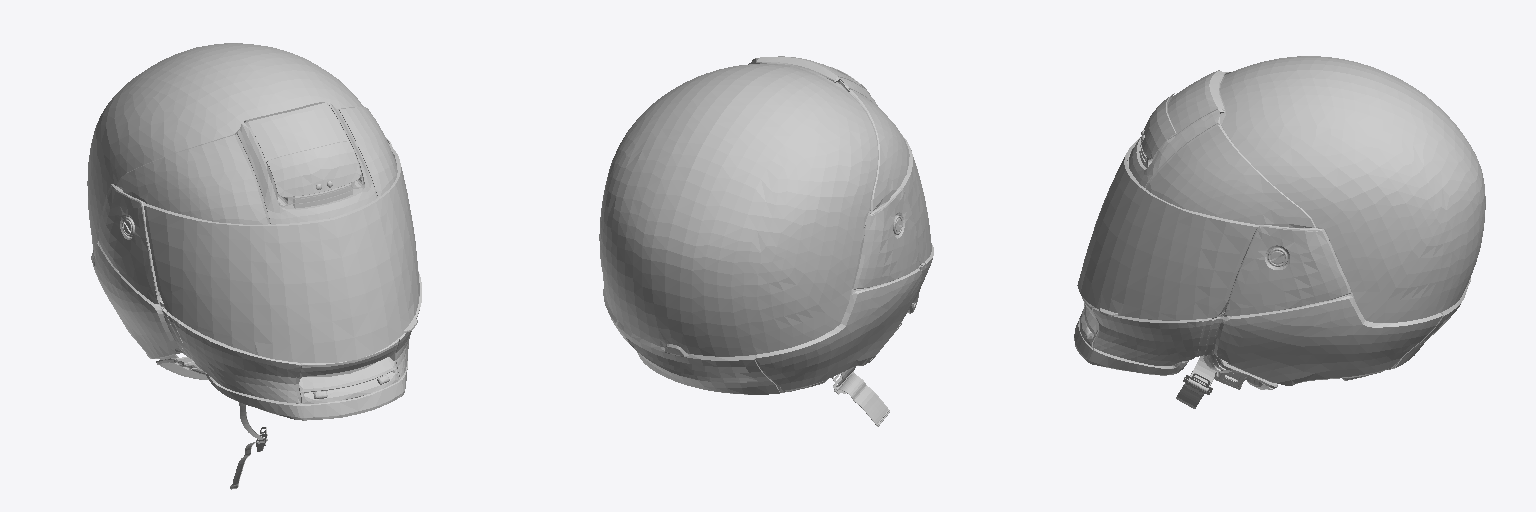
File: the-helmet.obj
3 views of the same model, side by side, from view 1: azimuth 30°, elevation 25°; view 2: azimuth 150°, elevation 25°; view 3: azimuth 270°, elevation 25° (orthographic).
Visible parts, largest first — view 1: Object.1; view 2: Object.1; view 3: Object.1.
Boxes of the visible parts, x1=… form: Object.1: x1=87, y1=43, x2=421, y2=489; Object.1: x1=599, y1=56, x2=933, y2=426; Object.1: x1=1074, y1=56, x2=1485, y2=408.
Size of the model in its own units: 423 by 568 by 570.